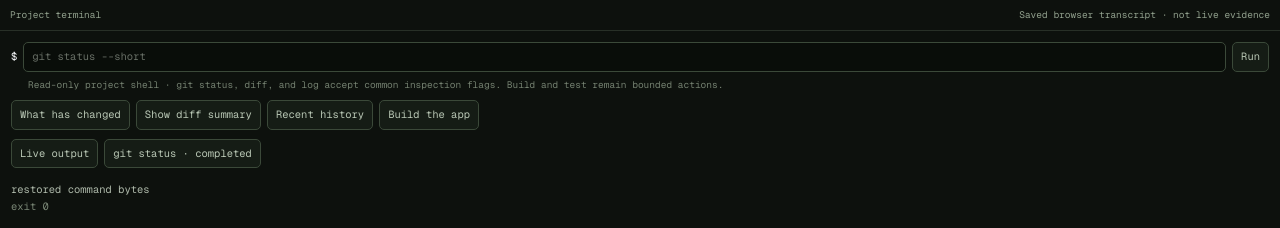
Test: Experience V2 developer tools › switches immediately from a restored transcript to Live output when a new command starts
Expected: the text "restored command bytes" is shown, [11,182,150,196]
Type "git status" into the field named "Project terminal command" at (625, 57), box [23,42,1226,72]
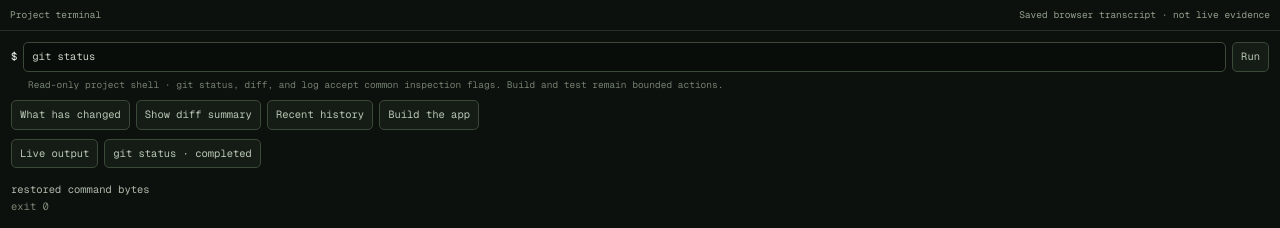
Press Enter in the field named "Project terminal command", box [23,42,1226,72]
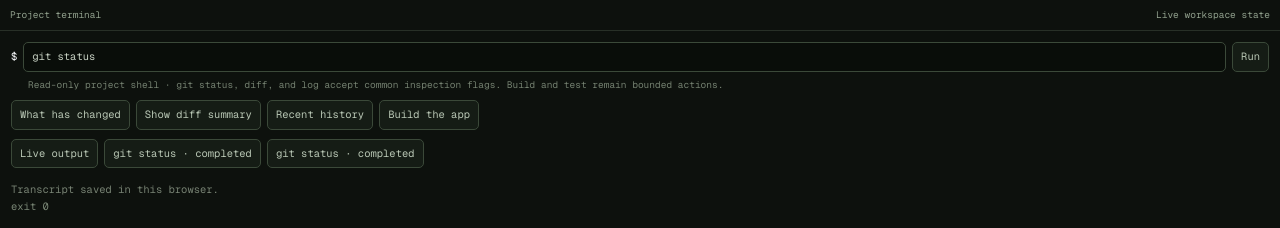
Expected: the text "Running repo.status" is shown, [1156,8,1270,22]
Expected: the text "restored command bytes" is gone
